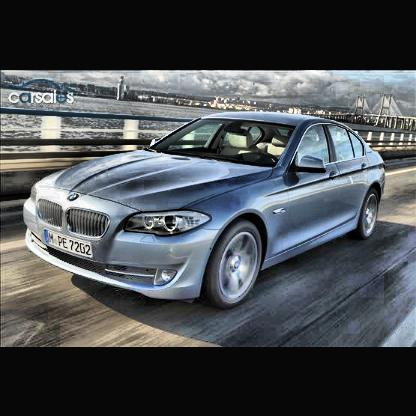BMW ActiveHybrid 5 Sedan 2012: (25, 112, 387, 312)
